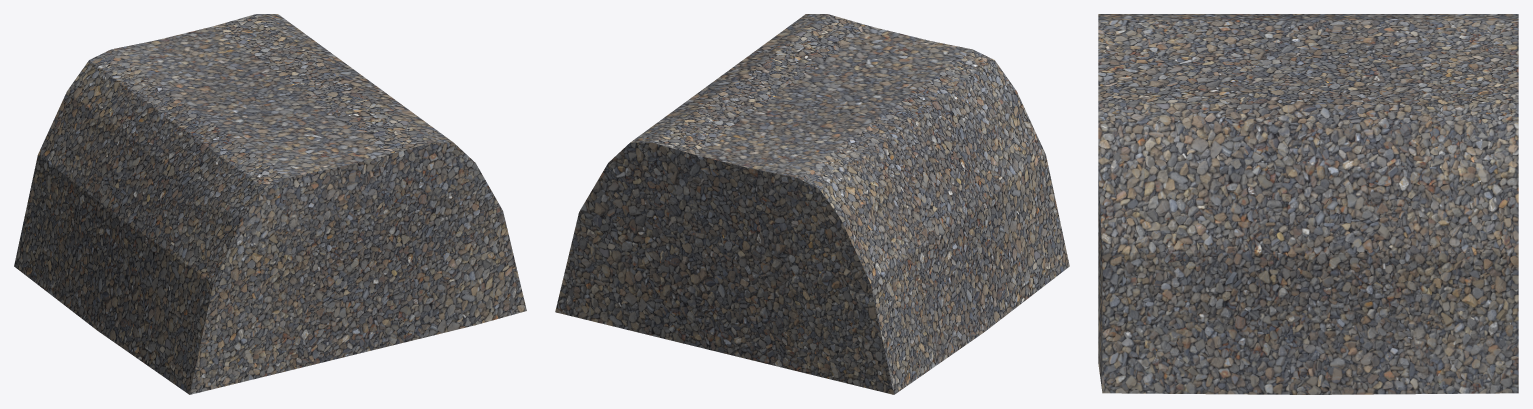
File: rail_track_750mm_ground.obj
3 renders of one model, left to right at view 1: azimuth 30°, elevation 25°; view 2: azimuth 150°, elevation 25°; view 3: azimuth 270°, elevation 25°, orthographic. The views are drawn at different scales.
Visible parts, largest first — view 1: RailBed; view 2: RailBed; view 3: RailBed.
Part boxes in pixels (x1,y1,x2,y2): RailBed: (14, 14, 526, 394); RailBed: (555, 14, 1069, 394); RailBed: (1098, 14, 1518, 394).
Bounding box in the file's own units: 4.07 × 2.18 × 3.58.
Materials: 1 (1 with a texture image).
